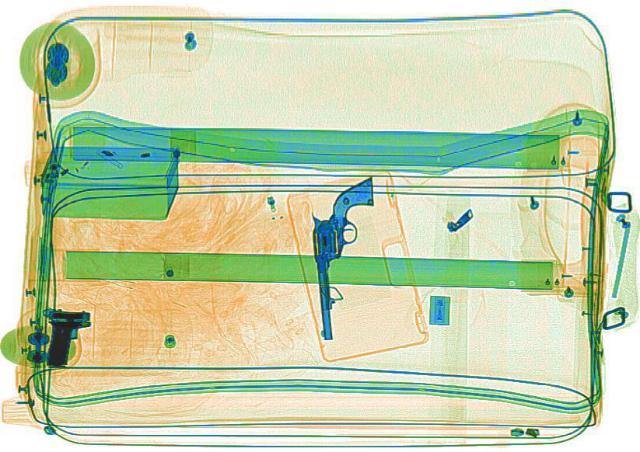Gun: (303, 177, 383, 342)
